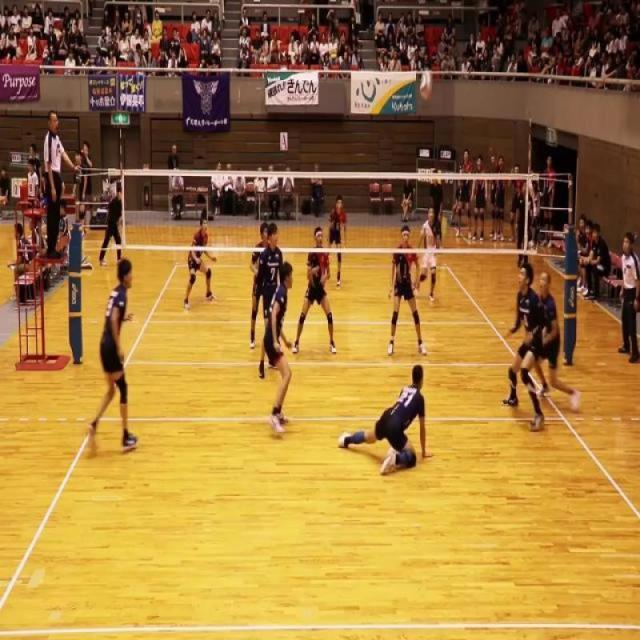volleyball: (420, 68, 432, 102)
